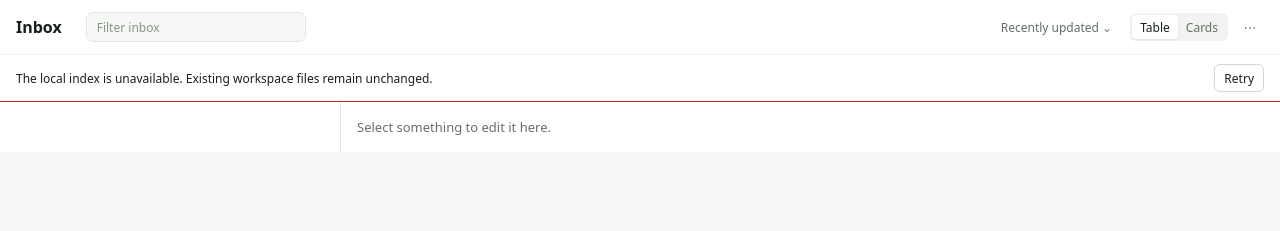
collection workbench › offers retry after a recoverable projection failure
Check: the message shows "workspace files remain unchanged", box [183,70,432,86]
Click the button "Retry".
click(1239, 78)  # box [1214,64,1264,92]
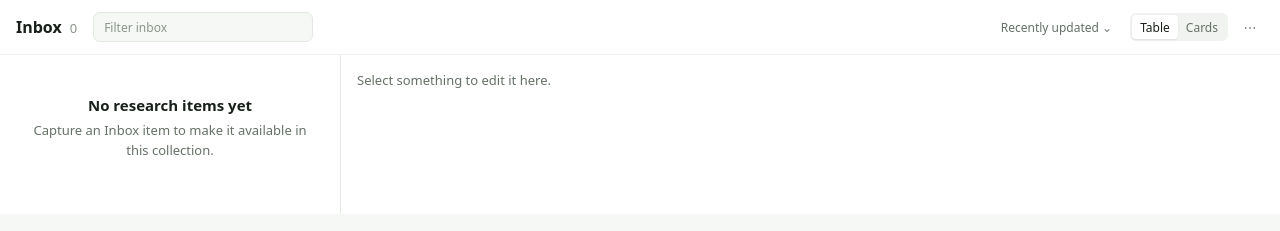
Check: the heading "No research items yet" is shown, box [88,95,252,115]
